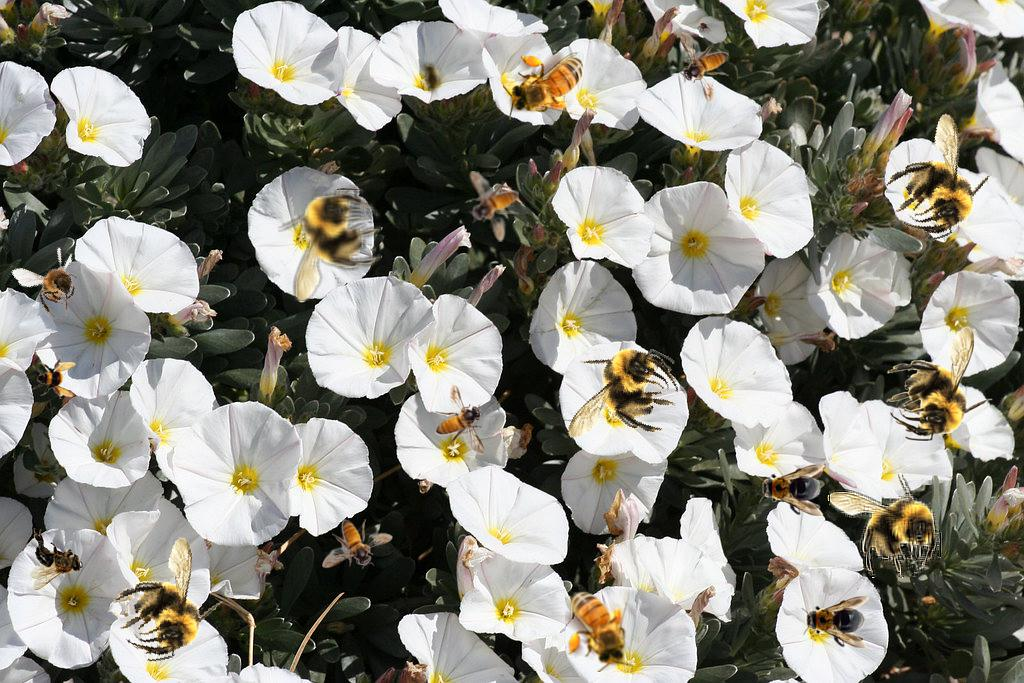Bee: (547, 322, 694, 473), (867, 104, 1010, 251), (101, 530, 234, 669), (827, 472, 942, 579), (276, 188, 383, 303), (886, 326, 993, 441), (10, 236, 101, 330), (565, 579, 633, 672), (503, 52, 596, 120), (469, 171, 519, 242), (435, 384, 485, 455), (679, 32, 729, 103), (322, 519, 393, 569), (757, 464, 825, 516), (801, 596, 869, 648), (30, 528, 83, 590), (32, 355, 76, 399), (417, 56, 445, 100)
